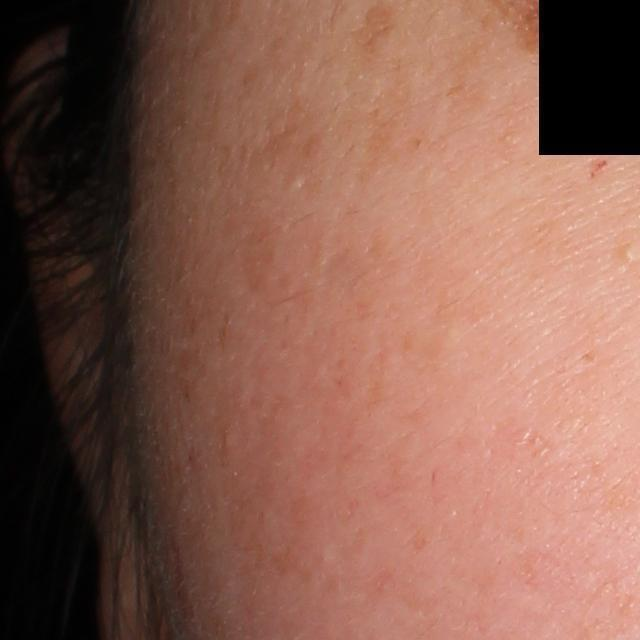melasma: (348, 3, 398, 63)
